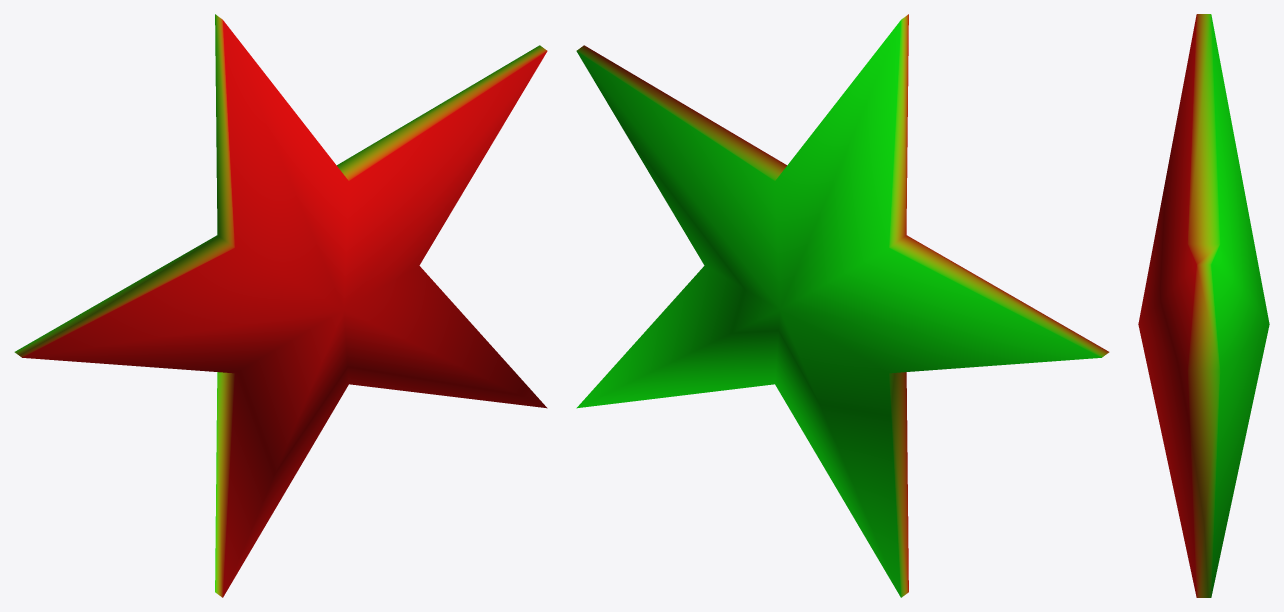
File: SM_NP_Star1_01.FBX
The picture shows the model from 3 angles, left to right: view 1: azimuth 30°, elevation 25°; view 2: azimuth 150°, elevation 25°; view 3: azimuth 270°, elevation 25°; orthographic projection. The views are drawn at different scales.
Visible parts, largest first — view 1: SM_NP_Star1_01; view 2: SM_NP_Star1_01; view 3: SM_NP_Star1_01.
Boxes of the visible parts, <box> form: SM_NP_Star1_01: <box>14,14,547,597</box>; SM_NP_Star1_01: <box>576,14,1109,597</box>; SM_NP_Star1_01: <box>1138,14,1269,597</box>.
Size of the model in its own units: 40.03 by 9.29 by 42.09.
